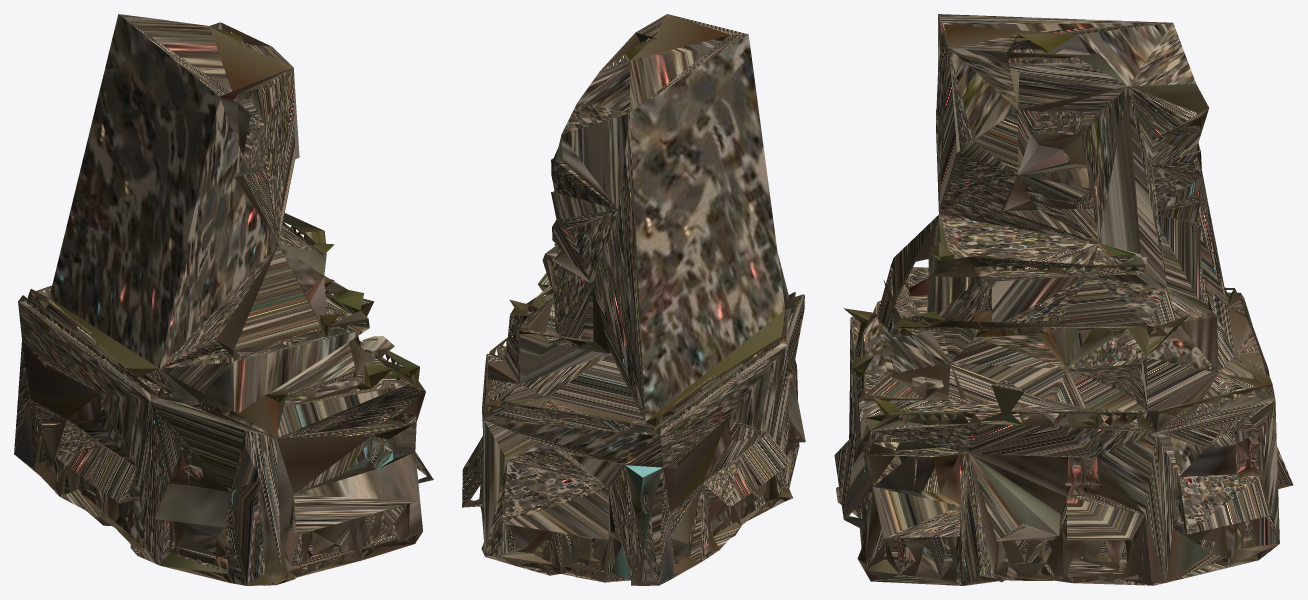
The model's file is b04_far.glb.
The picture shows the model from 3 angles, left to right: view 1: azimuth 30°, elevation 25°; view 2: azimuth 150°, elevation 25°; view 3: azimuth 270°, elevation 25°; orthographic projection. The views are drawn at different scales.
Visible parts, largest first — view 1: b04_far; view 2: b04_far; view 3: b04_far.
Part boxes in pixels (left/top/right/bottom): b04_far: left=14, top=14, right=433, bottom=585; b04_far: left=462, top=14, right=805, bottom=585; b04_far: left=834, top=14, right=1293, bottom=585.
Size of the model in its own units: 32.62 by 56 by 46.98.
1 material, 1 textured.
